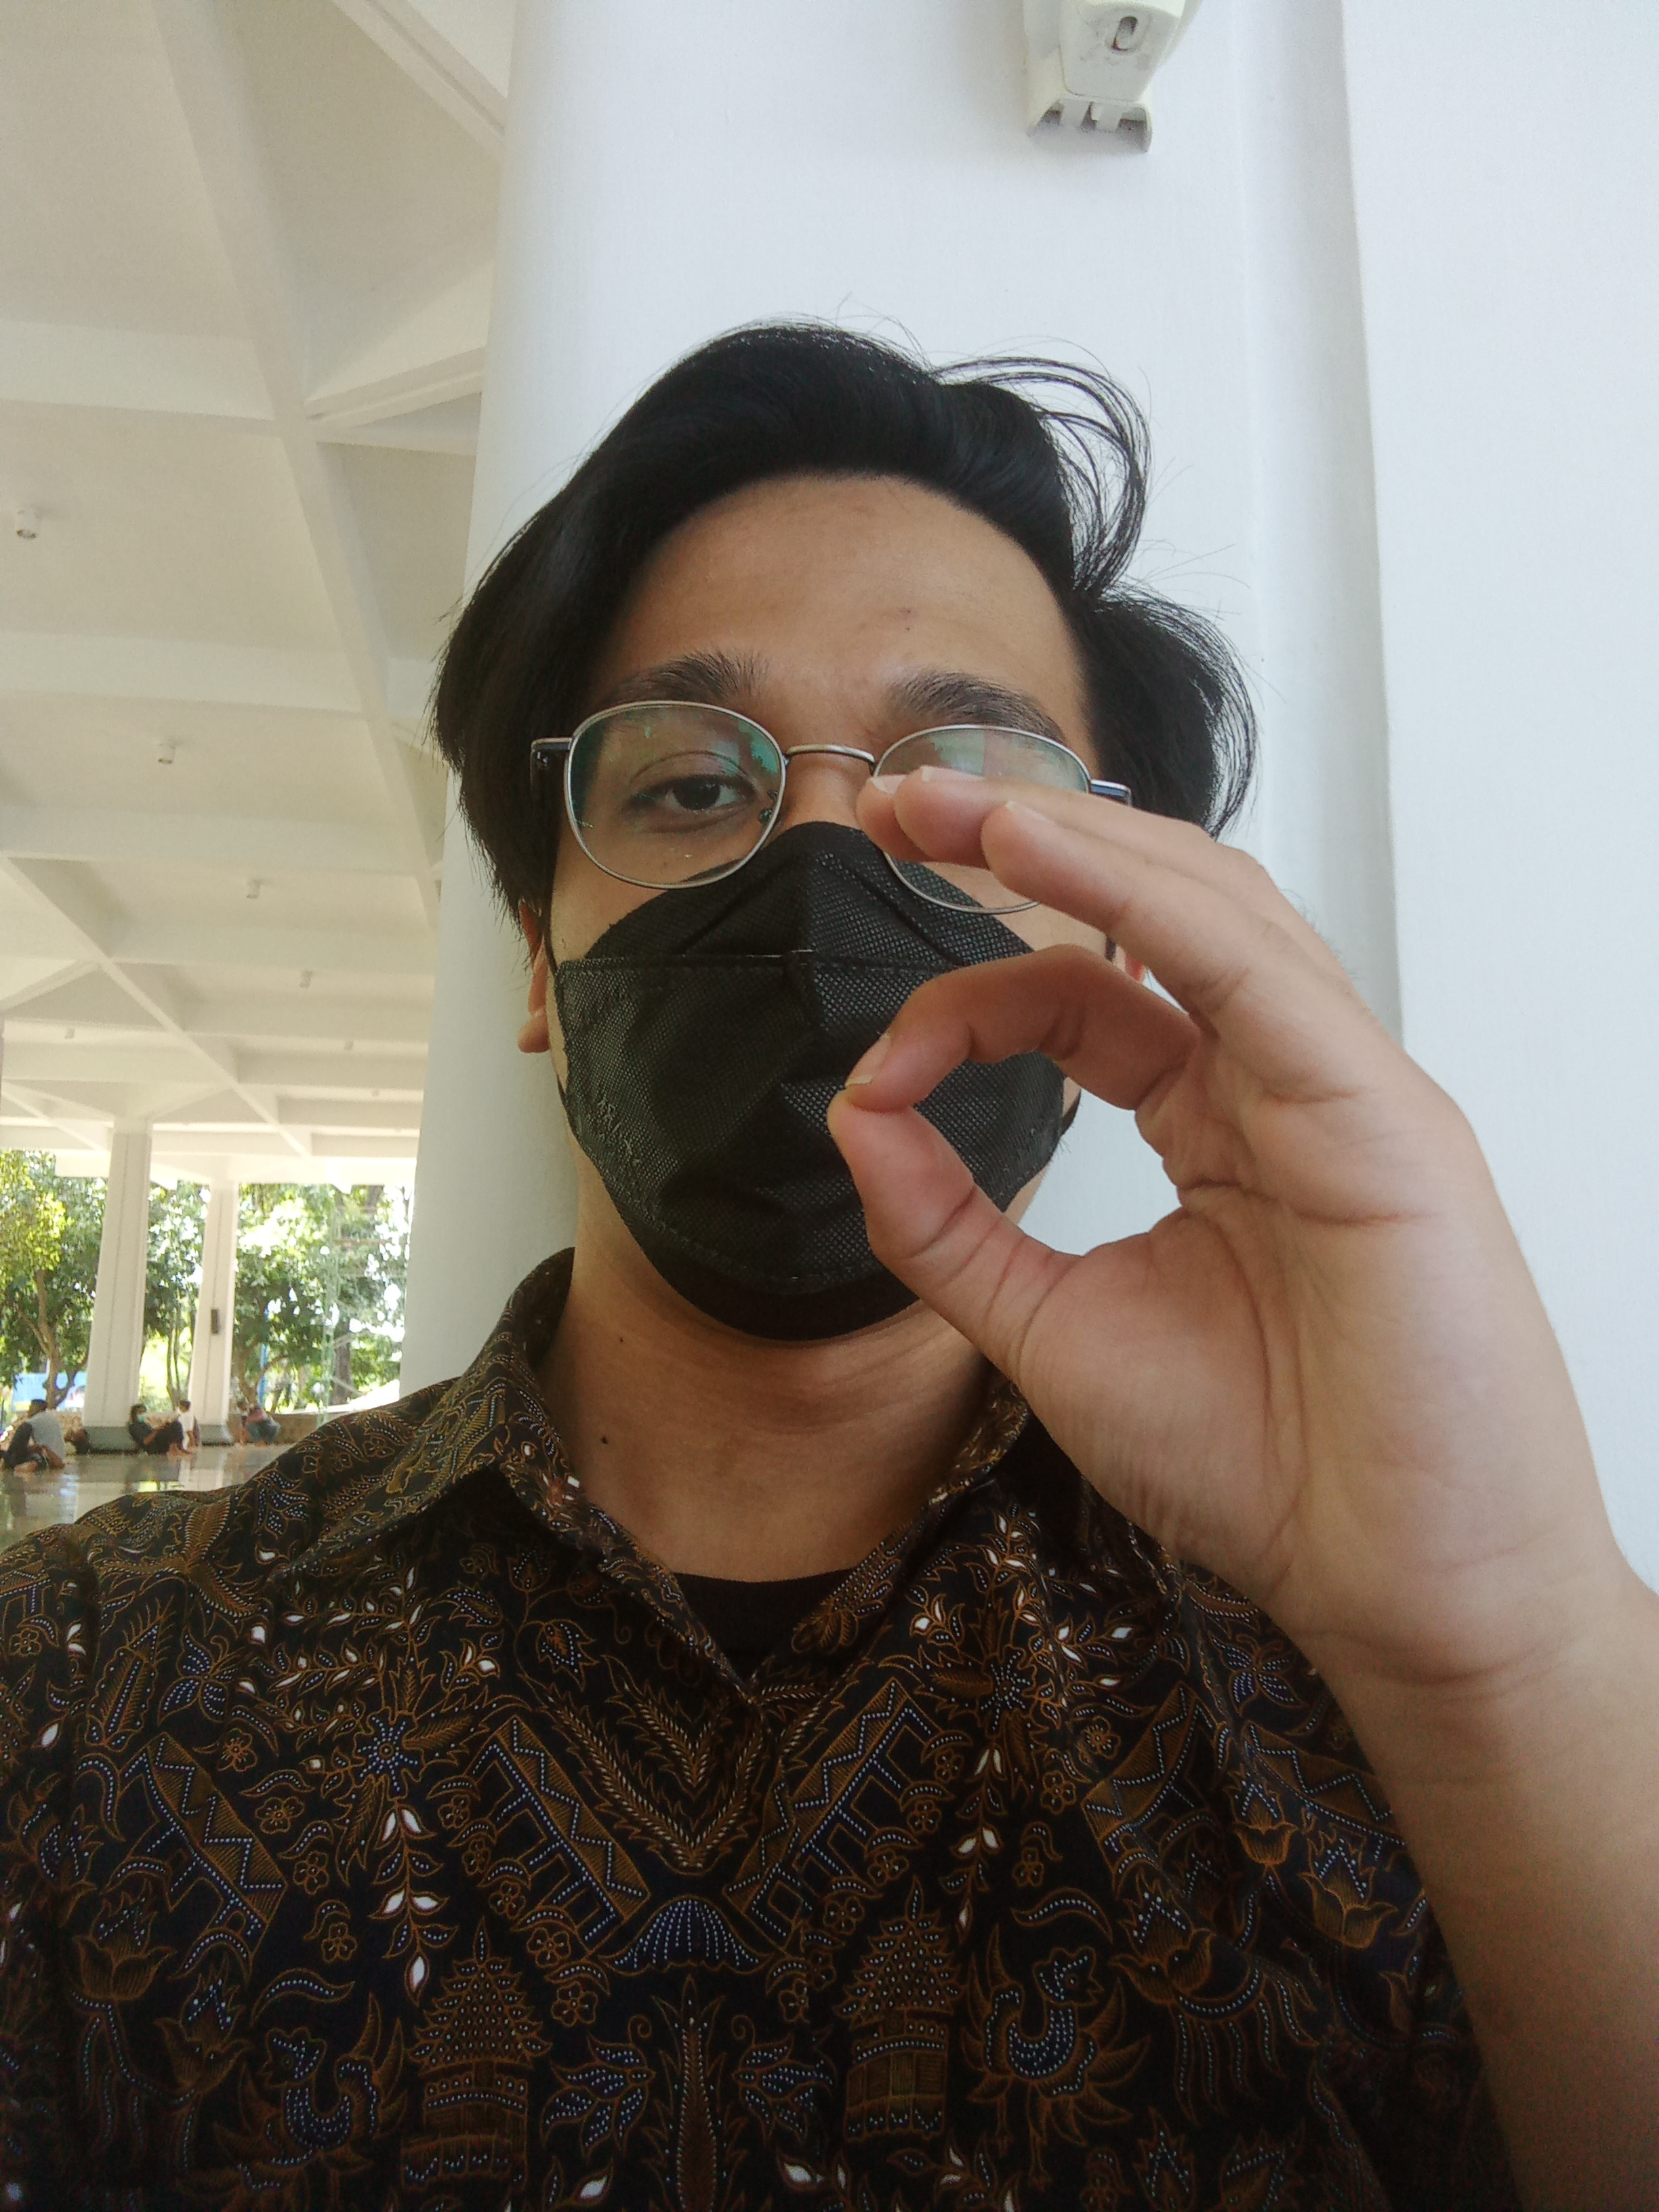O: (821, 759, 1659, 1745)
